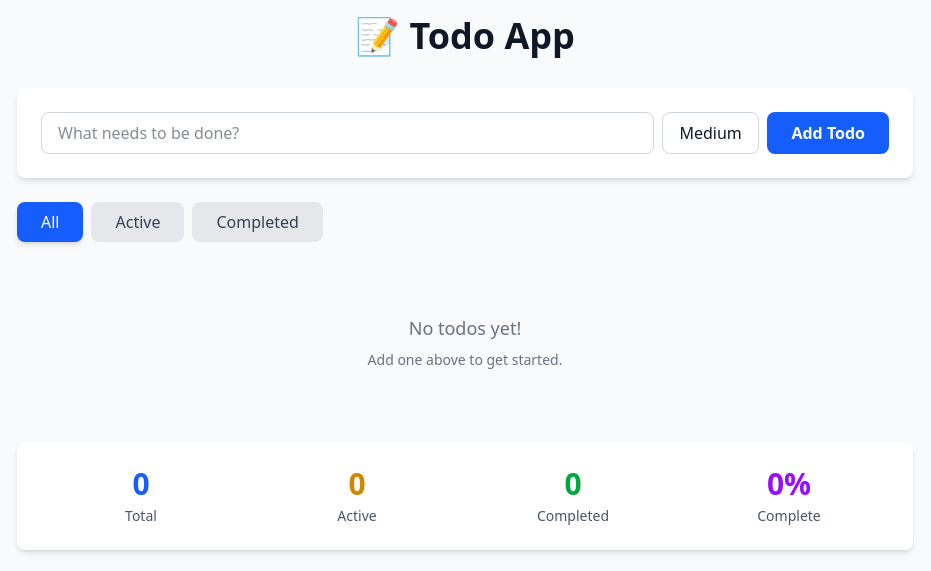
Test case: Todo App - E2E Tests › Edit Workflows › can edit todo by double-clicking text
Type "Double click me" into the field with placeholder "What needs to be done?".
click(348, 133); type("Double click me")  # box [58,121,638,145]
Then press Enter
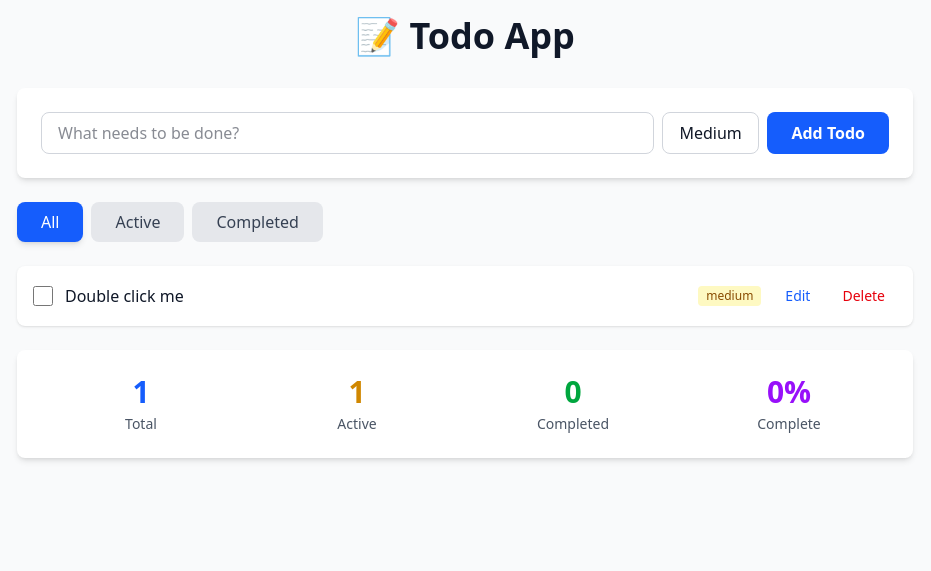
Double-click the text with test id "todo-text".
double_click(125, 296)  # box [65,285,184,307]
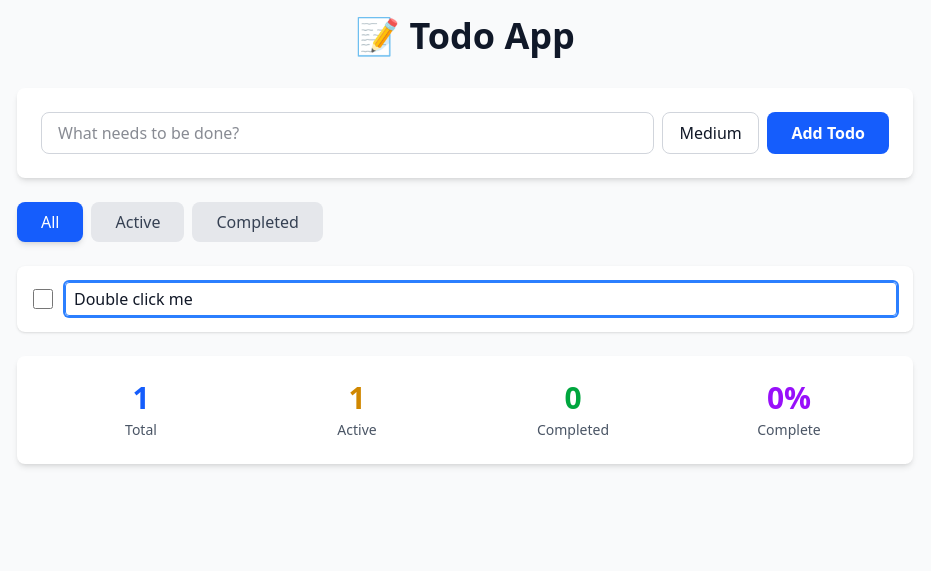
Expected: the field with test id "todo-edit-input" is shown
Replace the text in the field with test id "todo-edit-input" with "Double clicked!" at (481, 299), box [65,282,897,316]
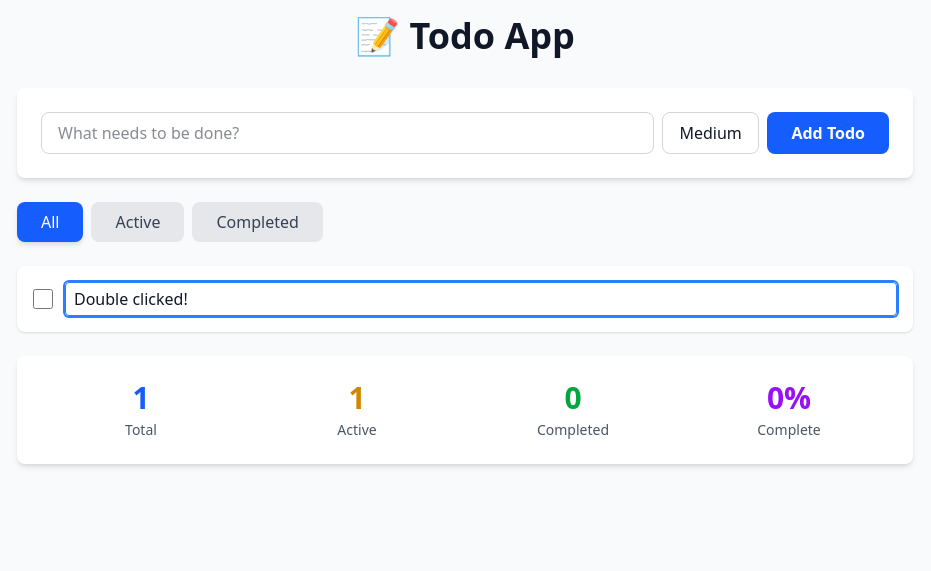
Click the heading with test id "app-title".
click(465, 36)  # box [17,16,913,56]
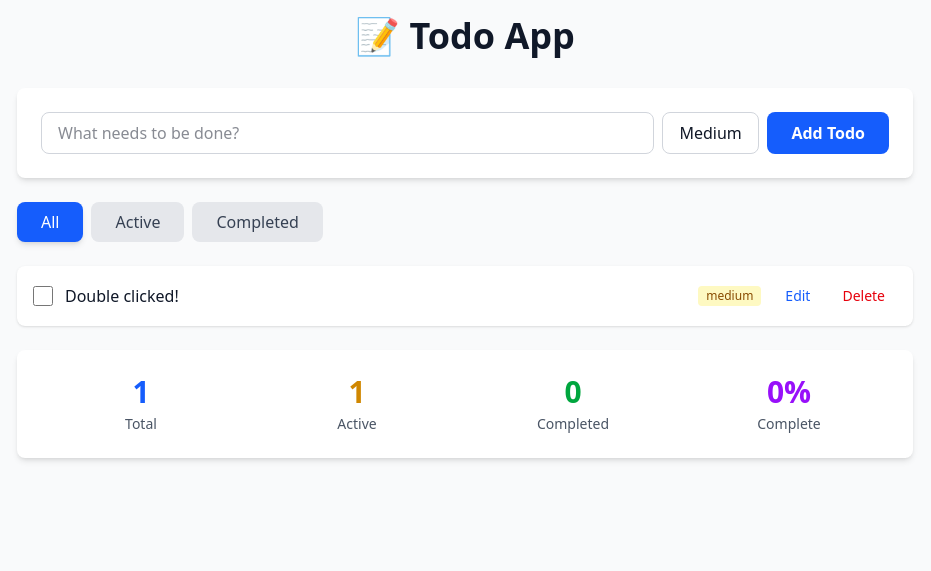
Expected: the text "Double clicked!" is shown, [65,285,179,307]
